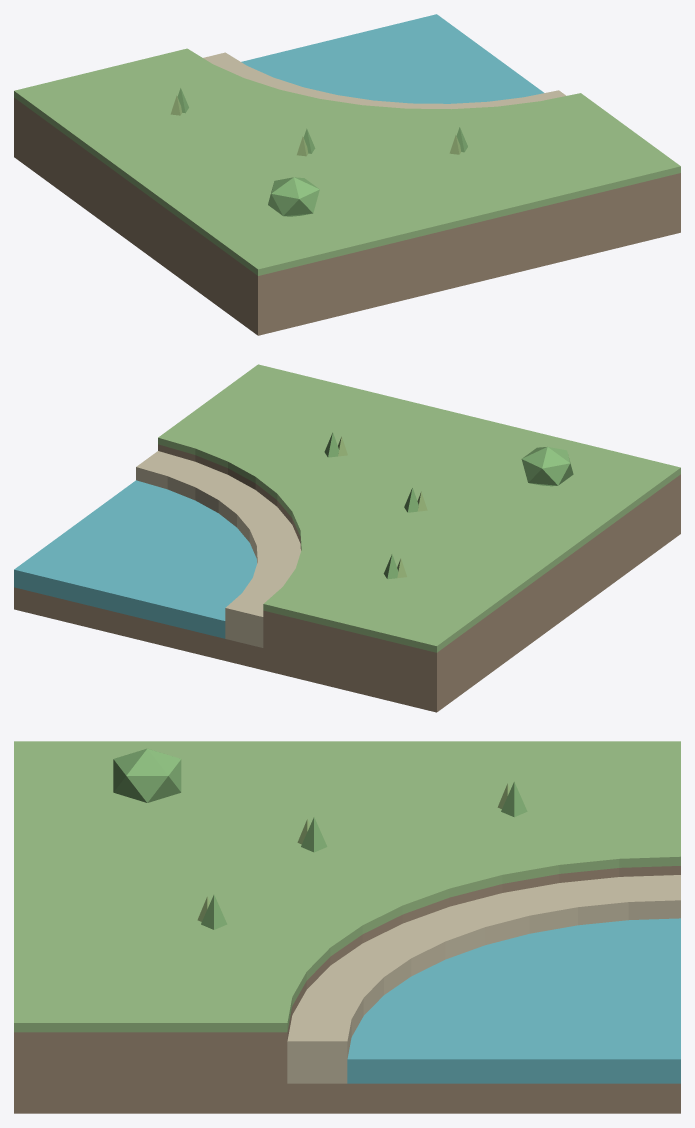
File: terreno__margem_canto.glb
3 renders of one model, top to bottom at view 1: azimuth 30°, elevation 25°; view 2: azimuth 150°, elevation 25°; view 3: azimuth 270°, elevation 25°, orthographic. The views are drawn at different scales.
Parts seen in each view (by area): view 1: terreno__margem_canto; view 2: terreno__margem_canto; view 3: terreno__margem_canto.
Part boxes in pixels (x1=…): terreno__margem_canto: x1=14, y1=14, x2=680, y2=335; terreno__margem_canto: x1=14, y1=364, x2=680, y2=712; terreno__margem_canto: x1=14, y1=741, x2=680, y2=1113.
Size of the model in its own units: 2 by 0.462 by 2.
